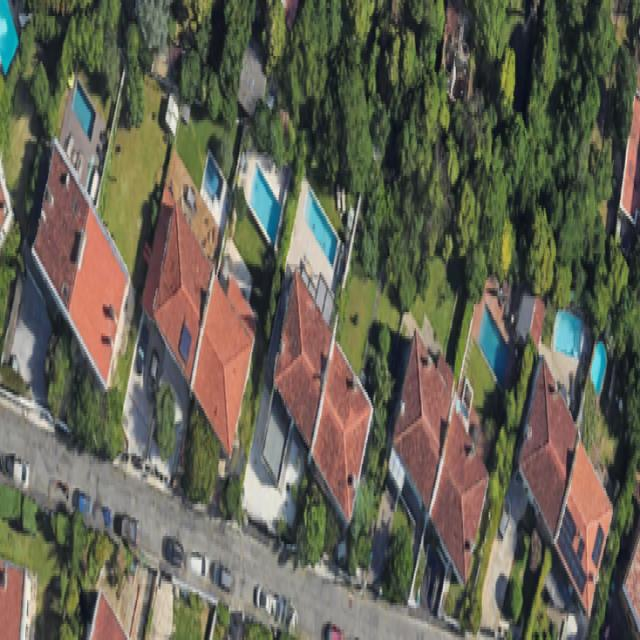maison: (128, 185, 226, 379), (506, 357, 592, 540), (55, 201, 138, 388), (300, 341, 383, 526), (261, 271, 346, 448), (542, 441, 625, 619), (380, 332, 465, 504), (417, 412, 500, 580), (23, 143, 98, 312), (186, 277, 258, 452)
